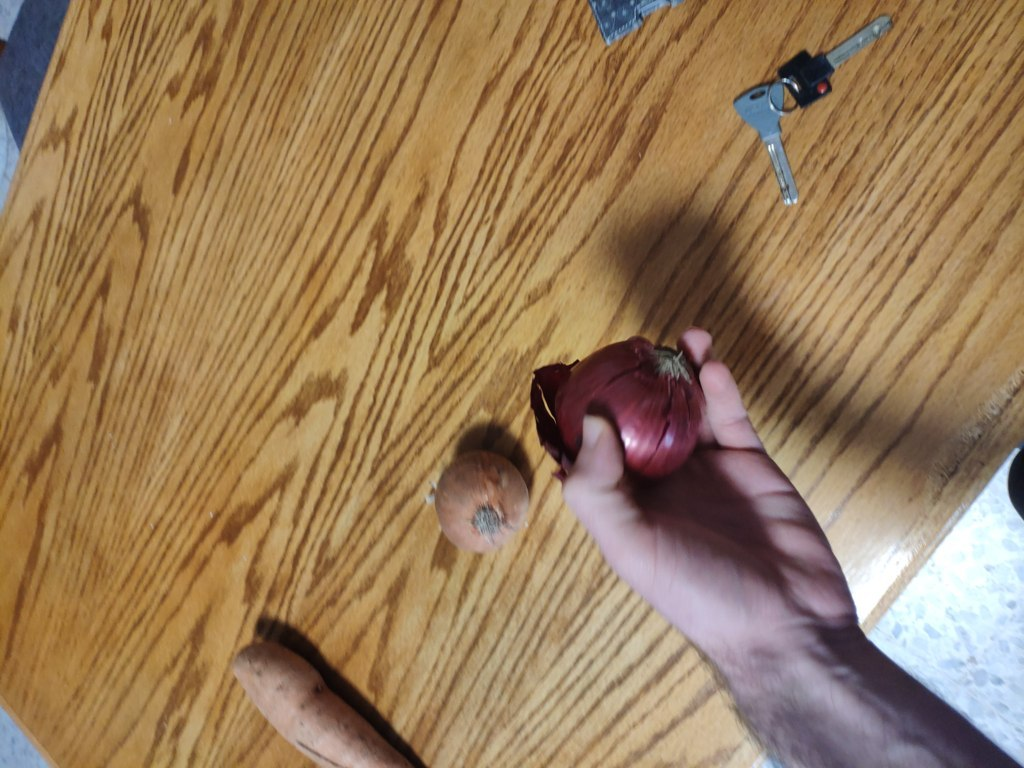Onion: (556, 341, 706, 469), (435, 450, 536, 561)
